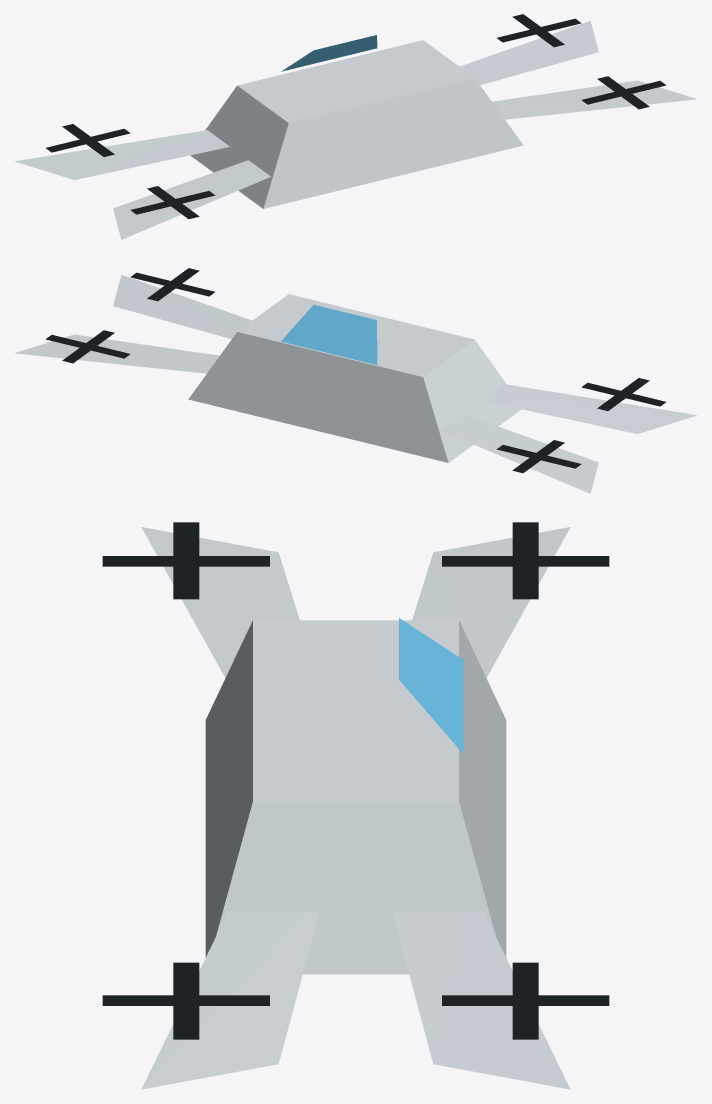
Rendered from harbor-drone.obj.
3 views of the same model, one above another, from view 1: azimuth 30°, elevation 25°; view 2: azimuth 150°, elevation 25°; view 3: azimuth 270°, elevation 25° (orthographic). The views are drawn at different scales.
Visible parts, largest first — view 1: HullBody, Wings, CockpitWindow, RotorBackLeft, RotorFrontLeft, RotorFrontRight, RotorBackRight; view 2: HullBody, Wings, CockpitWindow, RotorFrontLeft, RotorFrontRight, RotorBackLeft, RotorBackRight; view 3: HullBody, Wings, CockpitWindow, RotorFrontLeft, RotorFrontRight, RotorBackLeft, RotorBackRight.
Part boxes in pixels (x1,y1,x2,y2): HullBody: (190,40,523,208); Wings: (14,20,697,239); CockpitWindow: (281,35,377,71); RotorBackLeft: (130,186,215,219); RotorFrontLeft: (46,124,130,156); RotorFrontRight: (497,14,581,47); RotorBackRight: (581,76,666,109); HullBody: (188,294,521,462); Wings: (14,274,697,493); CockpitWindow: (281,304,377,364); RotorFrontLeft: (496,440,581,473); RotorFrontRight: (45,330,130,363); RotorBackLeft: (581,378,665,410); RotorBackRight: (130,268,214,301); HullBody: (205,620,506,974); Wings: (141,527,570,1089); CockpitWindow: (399,618,463,753); RotorFrontLeft: (442,522,609,599); RotorFrontRight: (442,962,609,1039); RotorBackLeft: (102,522,269,599); RotorBackRight: (102,962,269,1039).
Size of the model in its own units: 6.2 by 1.02 by 2.36.
